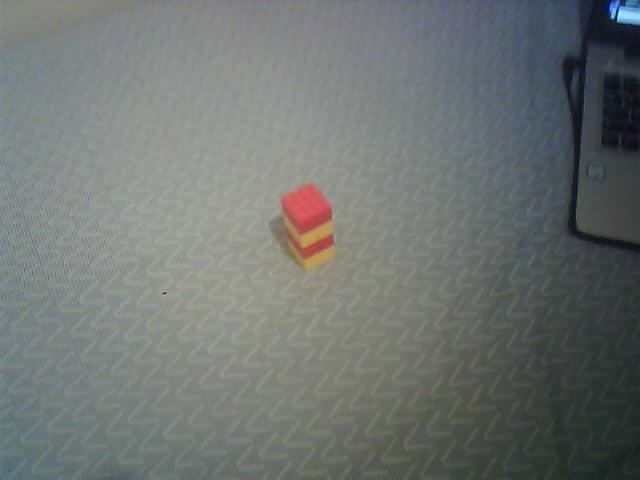lego: (279, 183, 336, 272)
